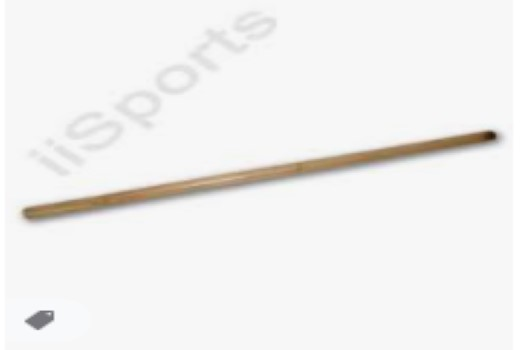baston_e: (36, 129, 491, 225)
baston_v: (483, 120, 504, 148), (15, 198, 37, 224)
